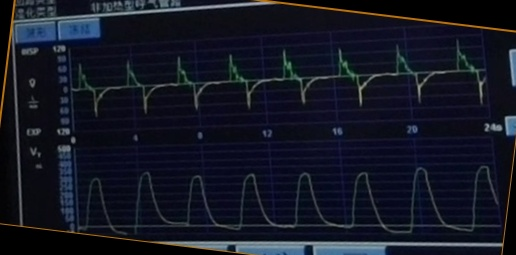Accumulation Flow: (74, 39, 487, 120)
Volume: (80, 163, 500, 236)
